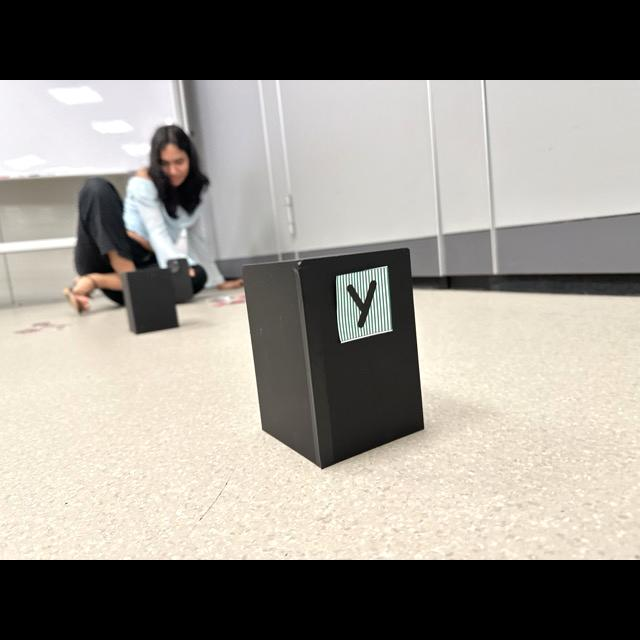Y: (348, 281, 376, 328)
